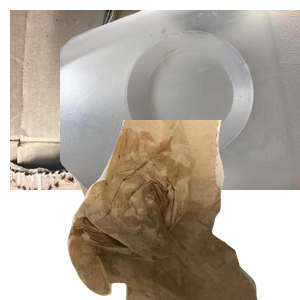cardboard: (10, 10, 250, 190)
glass: (56, 120, 241, 300)
plastic: (60, 10, 300, 190)
trash: (65, 120, 300, 300)
